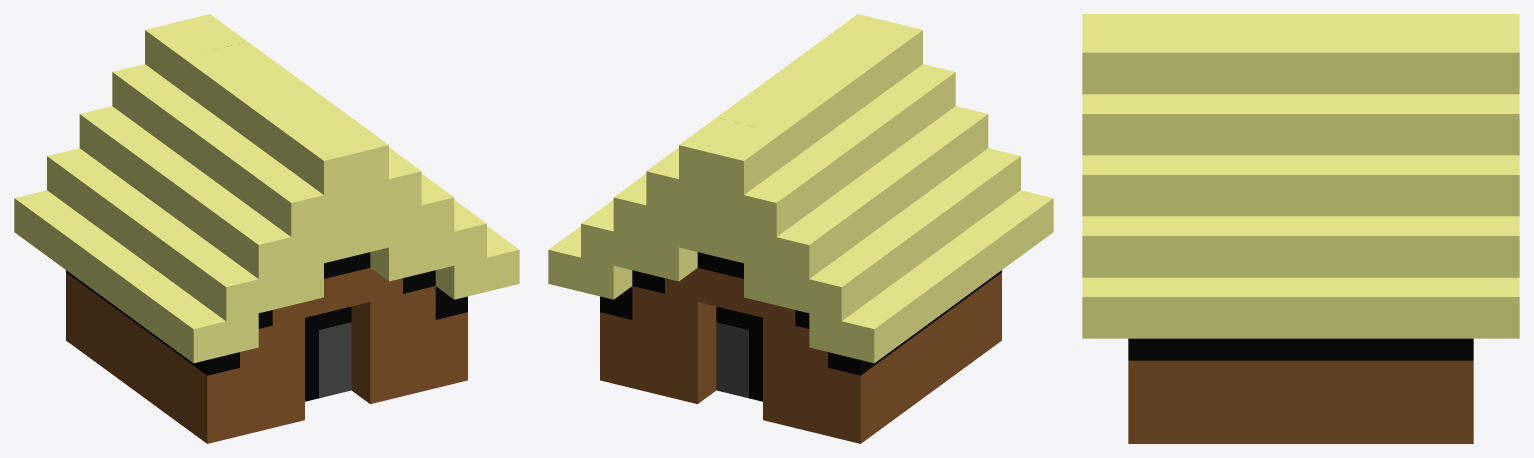
File: hut.glb
3 renders of one model, left to right at view 1: azimuth 30°, elevation 25°; view 2: azimuth 150°, elevation 25°; view 3: azimuth 270°, elevation 25°, orthographic. The views are drawn at different scales.
Visible parts, largest first — view 1: Grid; view 2: Grid; view 3: Grid.
Part boxes in pixels (x1=…): Grid: x1=14, y1=14, x2=519, y2=443; Grid: x1=548, y1=14, x2=1053, y2=443; Grid: x1=1082, y1=14, x2=1519, y2=443.
Size of the model in its own units: 0.4687 by 0.375 by 0.4461.
Materials: 1 (1 with a texture image).
